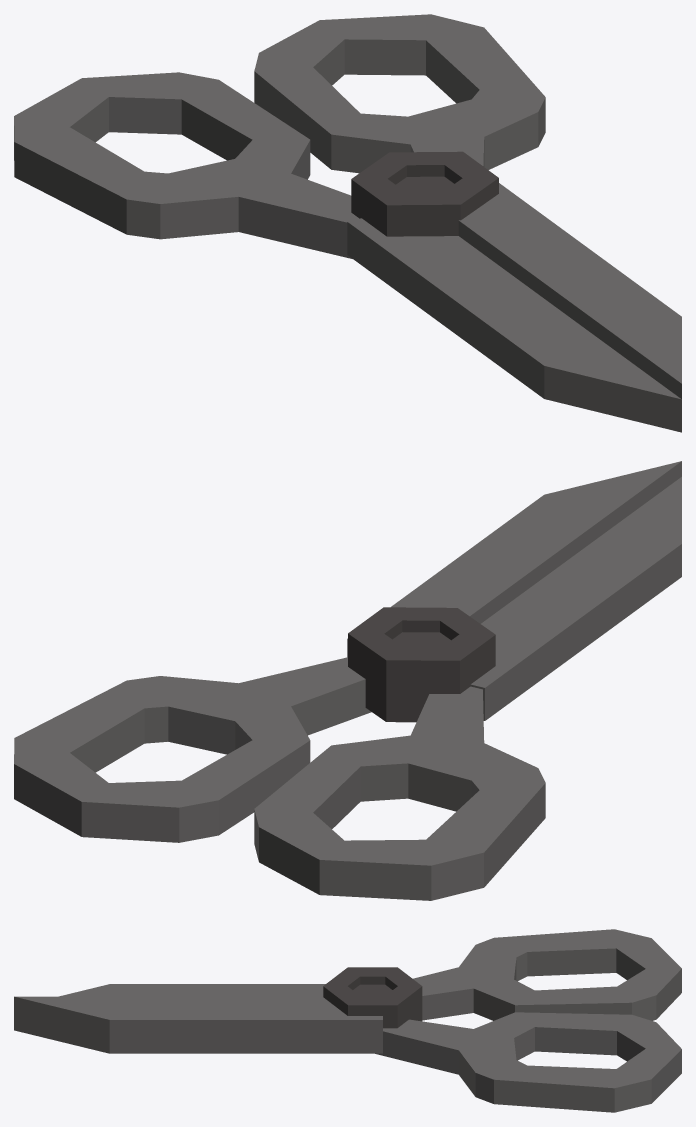
Rendered from clinicpuzzle3.fbx.
3 views of the same model, one above another, from view 1: azimuth 30°, elevation 25°; view 2: azimuth 150°, elevation 25°; view 3: azimuth 270°, elevation 25° (orthographic). The views are drawn at different scales.
Visible parts, largest first — view 1: clinic puzzle3; view 2: clinic puzzle3; view 3: clinic puzzle3.
Part boxes in pixels (bbox=[...]): clinic puzzle3: bbox=[14, 14, 681, 432]; clinic puzzle3: bbox=[14, 461, 681, 900]; clinic puzzle3: bbox=[14, 929, 681, 1112].
Bounding box in the file's own units: 107 × 14.93 × 190.
